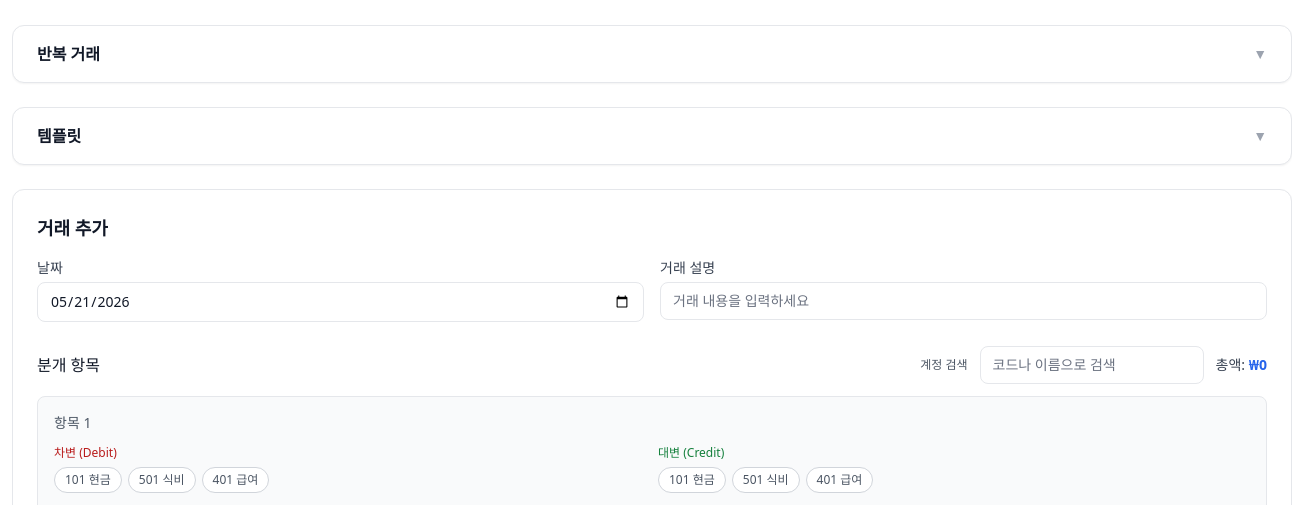
Test case: RecurringTransactionsPage (반복 거래 탭) › 반복 거래 목록과 상세에서 외화 금액을 기준 통화로 환산해 표시한다
Step 1. Click the button "반복 거래 ▼" → click(69, 54), box [13,26,1291,82]
(page scrolled)
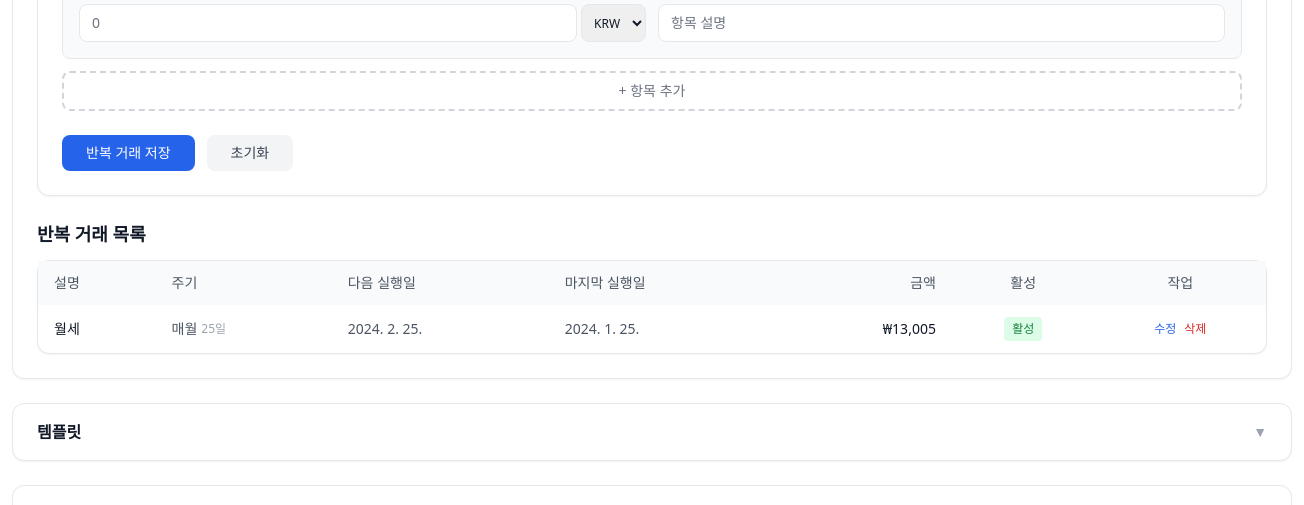
Check: the text "₩13,005" is shown, box [778,305,952,353]
Step 2. Click the text "월세" → click(385, 328), box [38,305,1266,353]
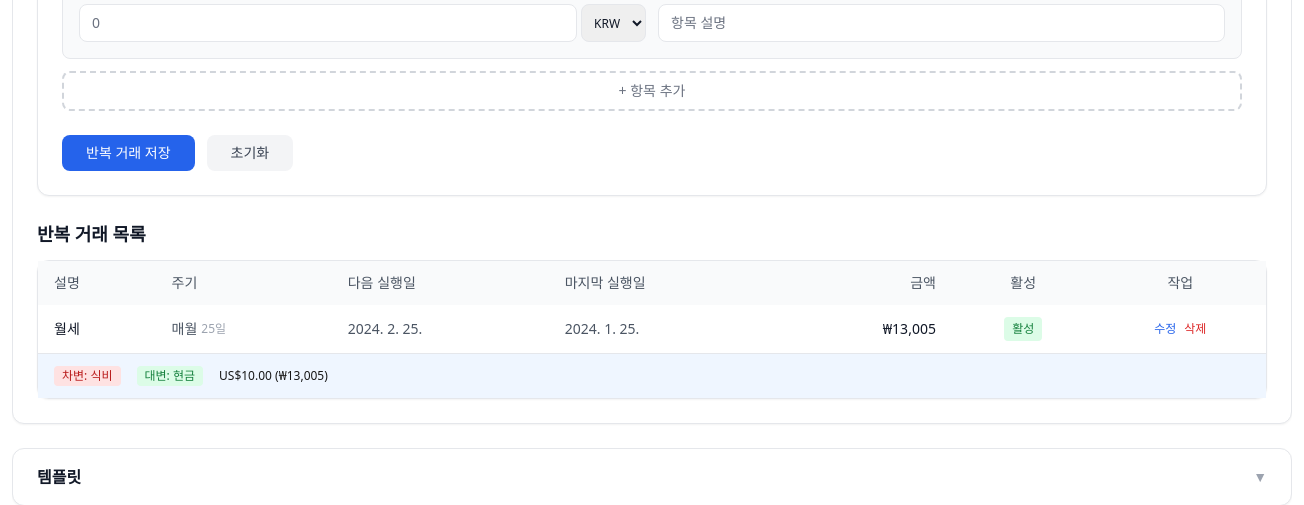
Check: the text "US$10.00 (₩13,005)" is shown, box [219,368,328,384]
